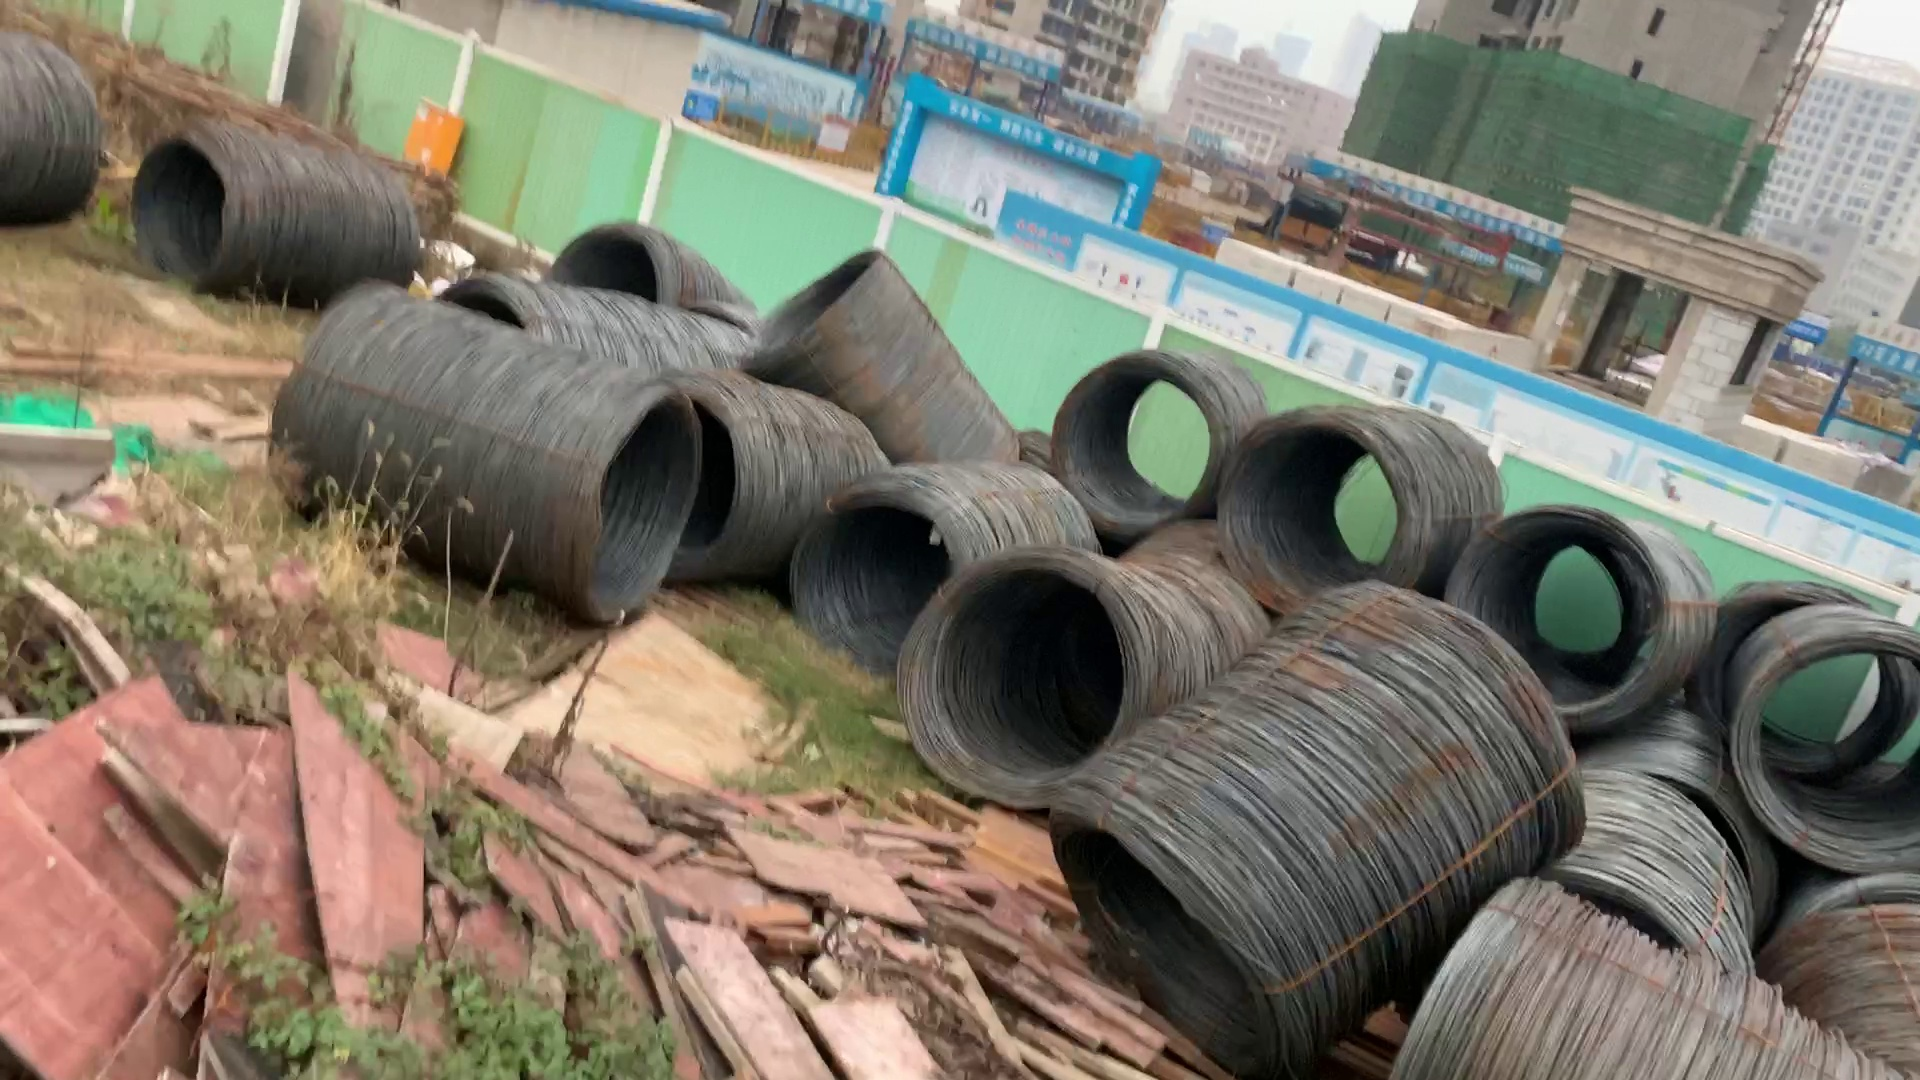coil: (1029, 802, 1313, 1071), (902, 549, 1138, 802), (1443, 506, 1660, 729), (1213, 415, 1422, 641), (1753, 624, 1920, 887), (782, 477, 963, 674), (1046, 352, 1218, 538), (571, 388, 699, 624), (613, 367, 757, 574), (1549, 852, 1721, 982), (742, 243, 877, 371), (124, 129, 237, 277), (541, 224, 682, 310), (440, 266, 549, 343)
